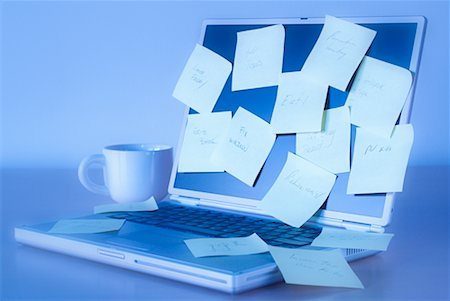Note: (344, 55, 410, 137), (302, 15, 374, 90), (260, 155, 336, 226), (211, 107, 277, 186), (347, 125, 414, 192), (269, 246, 363, 290), (174, 44, 232, 113), (294, 106, 352, 175), (232, 25, 285, 91), (272, 71, 328, 133), (179, 114, 232, 173), (184, 233, 269, 256), (312, 228, 394, 250), (49, 219, 125, 232), (91, 198, 158, 212)
